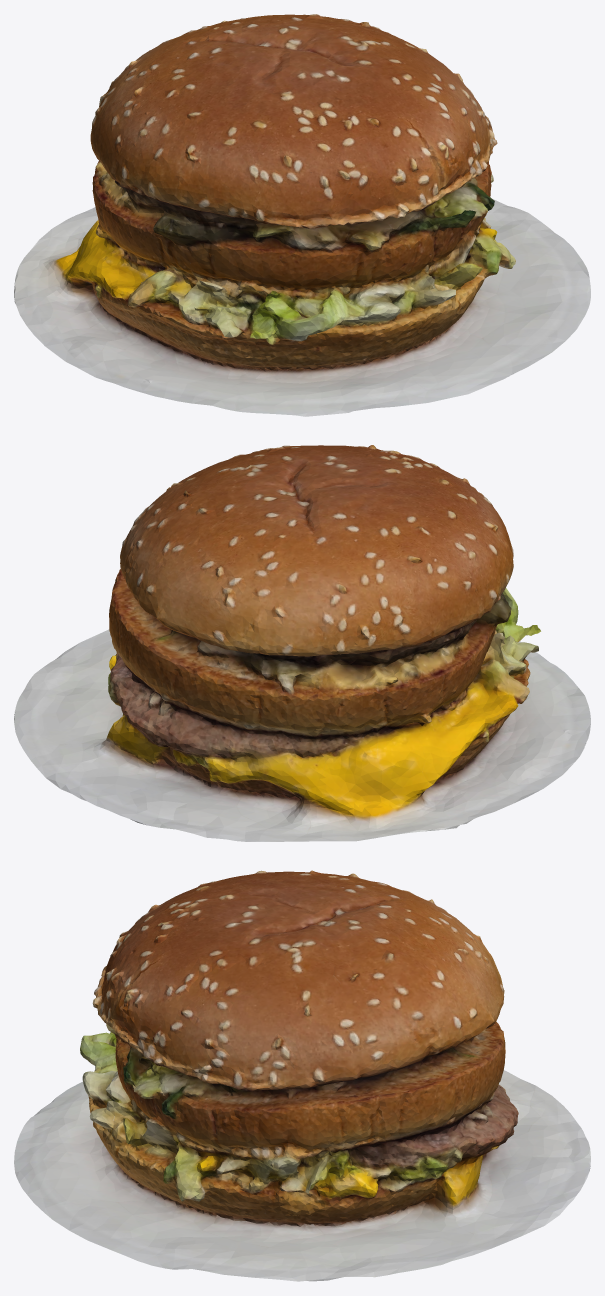
File: hamburger.glb
3 renders of one model, top to bottom at view 1: azimuth 30°, elevation 25°; view 2: azimuth 150°, elevation 25°; view 3: azimuth 270°, elevation 25°, orthographic.
Bounding box in the file's own units: 0.7624 × 0.3582 × 0.763.
1 material, 1 textured.
